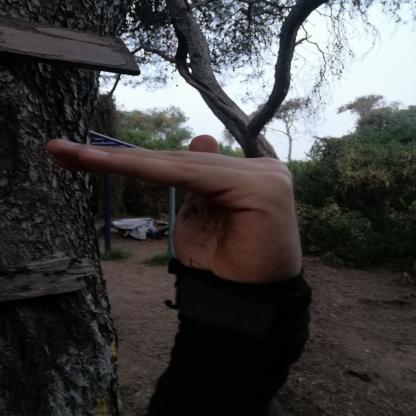KHAA: (26, 118, 338, 306)
